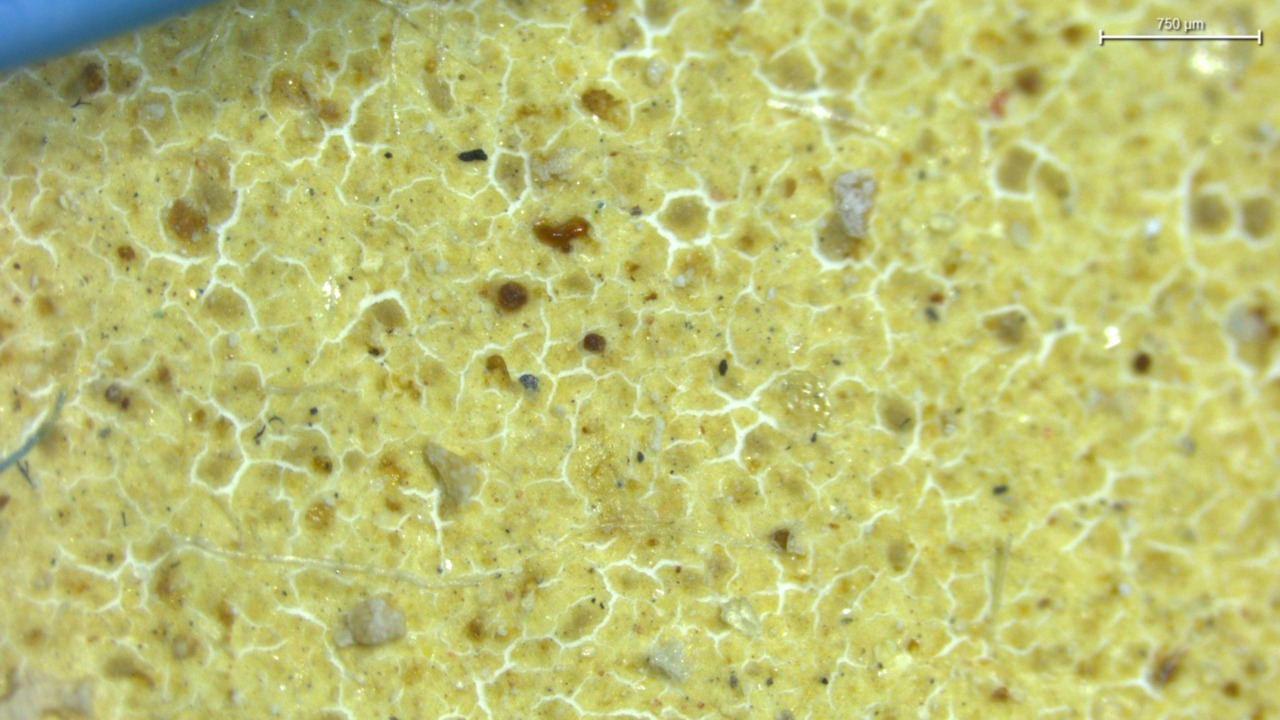microplastic_fragment: (335, 597, 406, 647), (425, 441, 478, 505), (833, 169, 876, 238)
